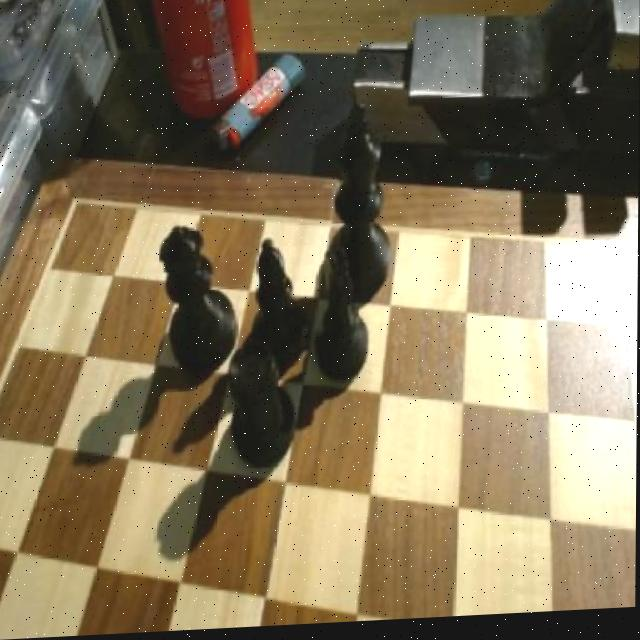bishop: (242, 239, 316, 374)
black-bishop: (326, 107, 403, 303)
black-king: (316, 246, 378, 387)
black-pawn: (158, 225, 245, 372)
black-queen: (227, 343, 300, 475)
